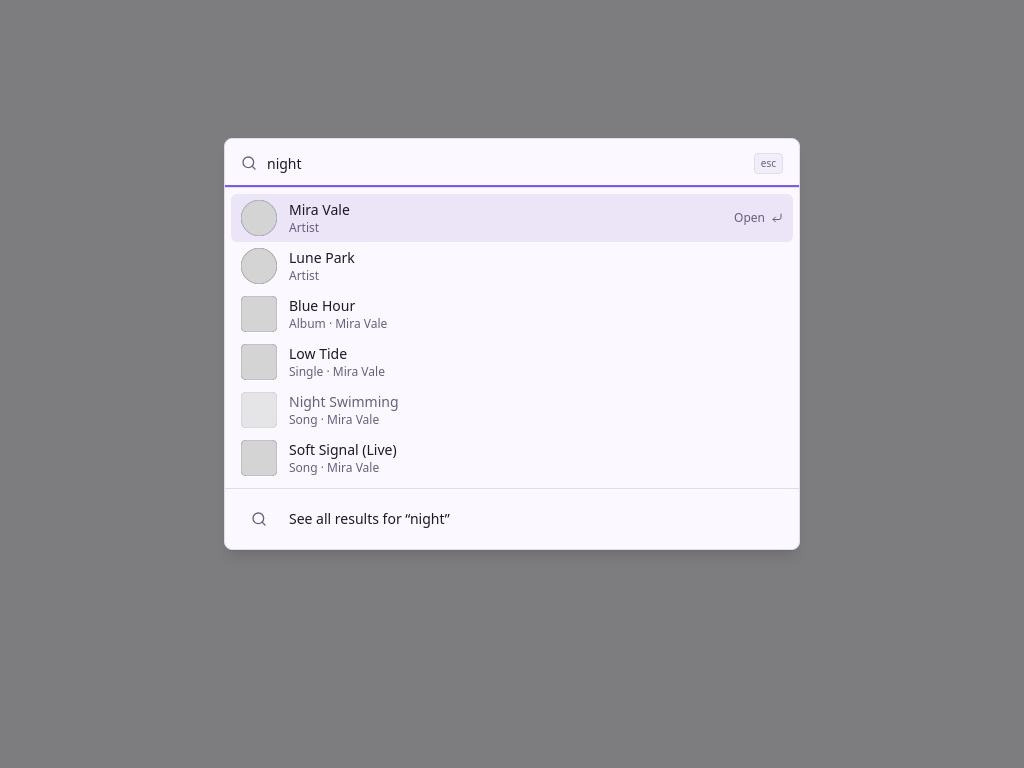
Scenario: SearchDialog › asks the caller whether a song can play
The width and height of the screenshot is (1024, 768).
Hover over the option "Soft Signal (Live) Song · Mira Vale" at (259, 458), box [231,434,793,482]
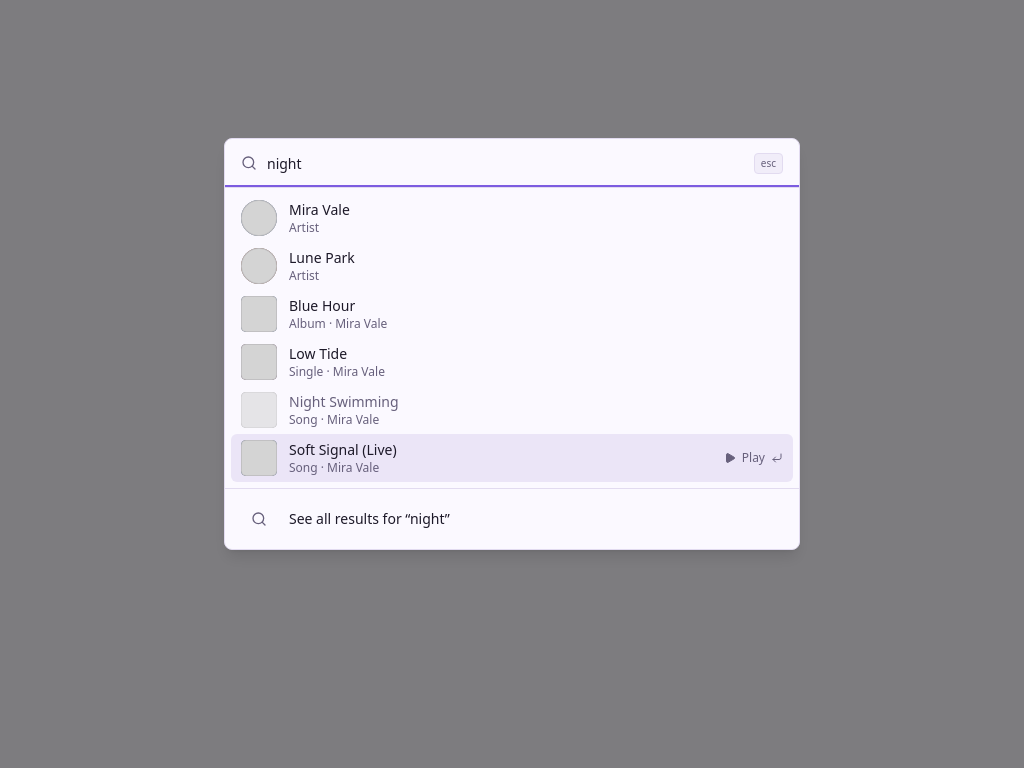
Expected: the text "Play" is shown, [724,450,783,466]
Hover over the option "Night Swimming Song · Mira Vale" at (259, 410), box [231,386,793,434]
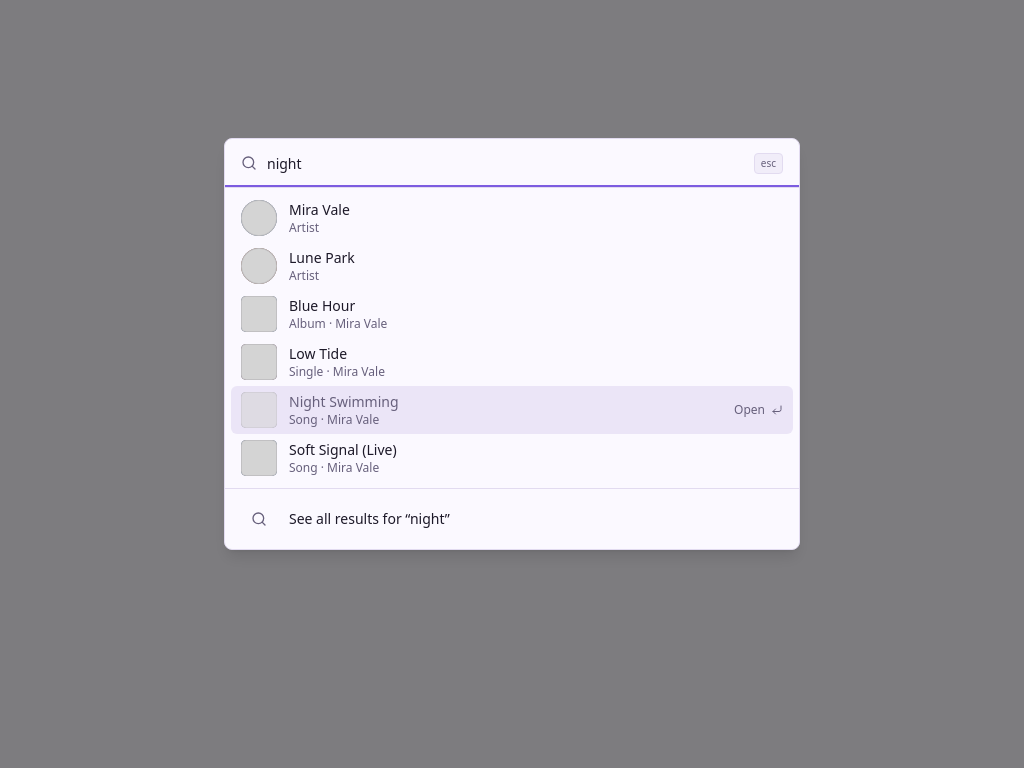
Expected: the text "Open" is shown, [734,402,783,418]
